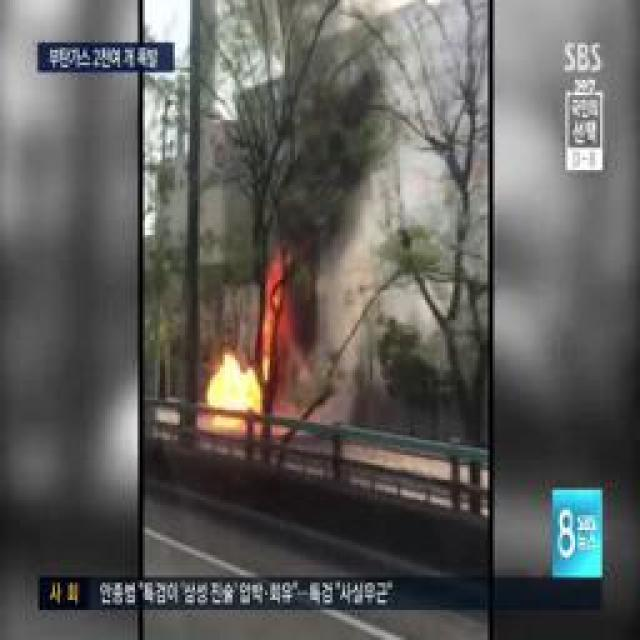Fire: (207, 359, 270, 426)
